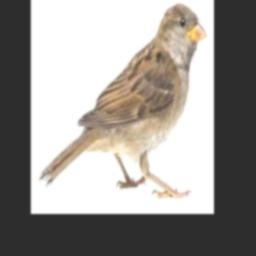Sparrow: (39, 4, 207, 198)
